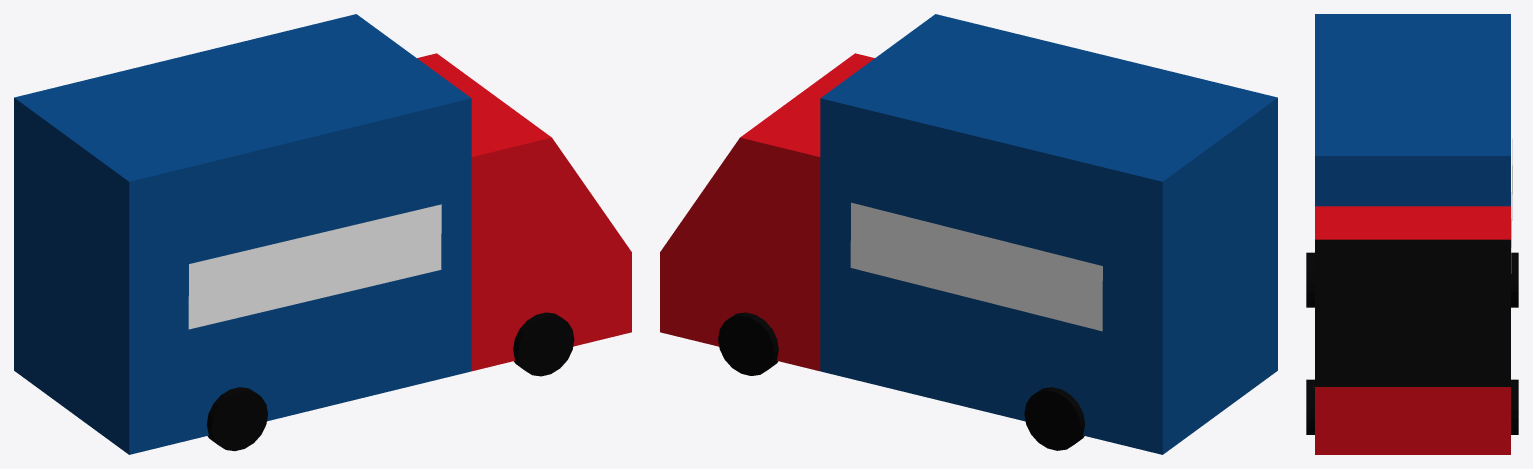
File: libratruck.gltf
The picture shows the model from 3 angles, left to right: view 1: azimuth 30°, elevation 25°; view 2: azimuth 150°, elevation 25°; view 3: azimuth 270°, elevation 25°; orthographic projection. The views are drawn at different scales.
Parts seen in each view (by area): view 1: back, front, Libraman, frontrightwheel, backrightwheel; view 2: back, front, Libraman.001, frontleftwheel, backleftwheel; view 3: back, front.001, front, frontrightwheel, backrightwheel, frontleftwheel, backleftwheel.
Part boxes in pixels (x1,y1,x2,y2): back: [14, 14, 471, 454]; front: [417, 53, 631, 371]; Libraman: [188, 204, 441, 329]; frontrightwheel: [513, 312, 574, 376]; backrightwheel: [206, 387, 267, 451]; back: [820, 14, 1277, 454]; front: [660, 53, 874, 371]; Libraman.001: [850, 202, 1102, 331]; frontleftwheel: [718, 312, 778, 375]; backleftwheel: [1024, 387, 1085, 450]; back: [1315, 14, 1510, 206]; front.001: [1315, 239, 1510, 386]; front: [1315, 206, 1510, 454]; frontrightwheel: [1306, 379, 1314, 434]; backrightwheel: [1306, 252, 1314, 307]; frontleftwheel: [1511, 379, 1518, 434]; backleftwheel: [1511, 252, 1518, 307].
Bounding box in the file's own units: 121 × 66.63 × 51.85.
